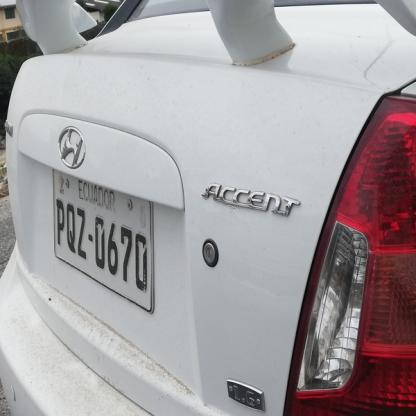Placa: (42, 164, 160, 317)
